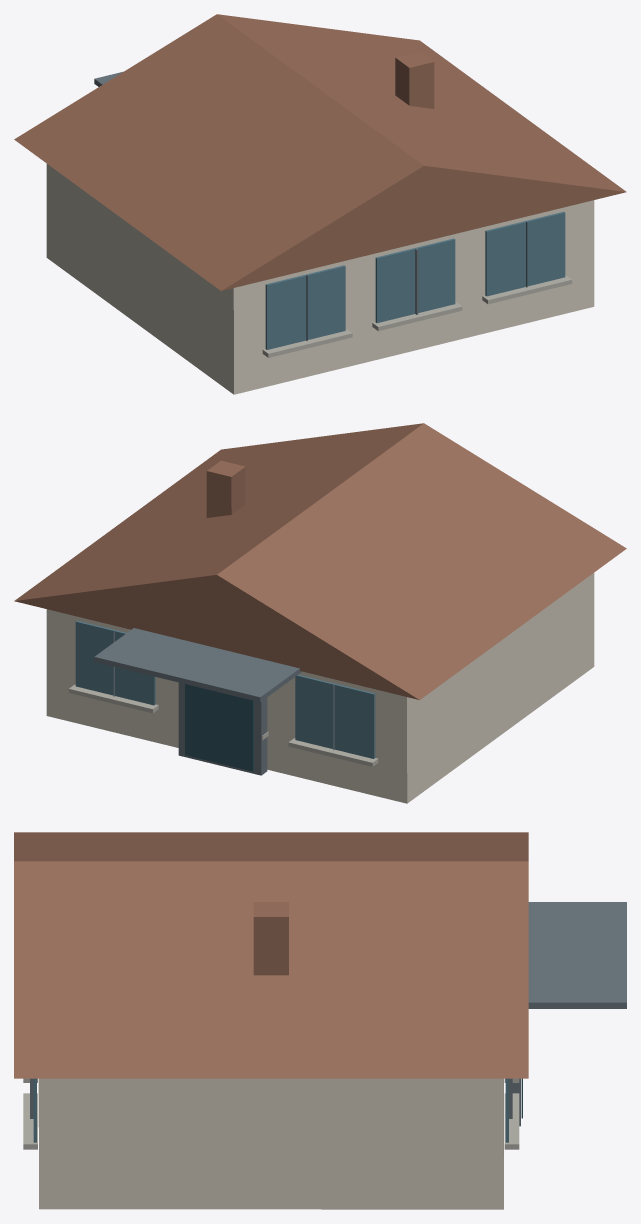
The model's file is House.fbx.
3 renders of one model, top to bottom at view 1: azimuth 30°, elevation 25°; view 2: azimuth 150°, elevation 25°; view 3: azimuth 270°, elevation 25°, orthographic. The views are drawn at different scales.
Visible parts, largest first — view 1: House_LOD; view 2: House_LOD; view 3: House_LOD.
Part boxes in pixels (bbox=[...]): House_LOD: bbox=[14, 14, 626, 394]; House_LOD: bbox=[14, 423, 626, 803]; House_LOD: bbox=[14, 832, 626, 1209].
Size of the model in its own units: 11.2 by 5.28 by 11.79.
